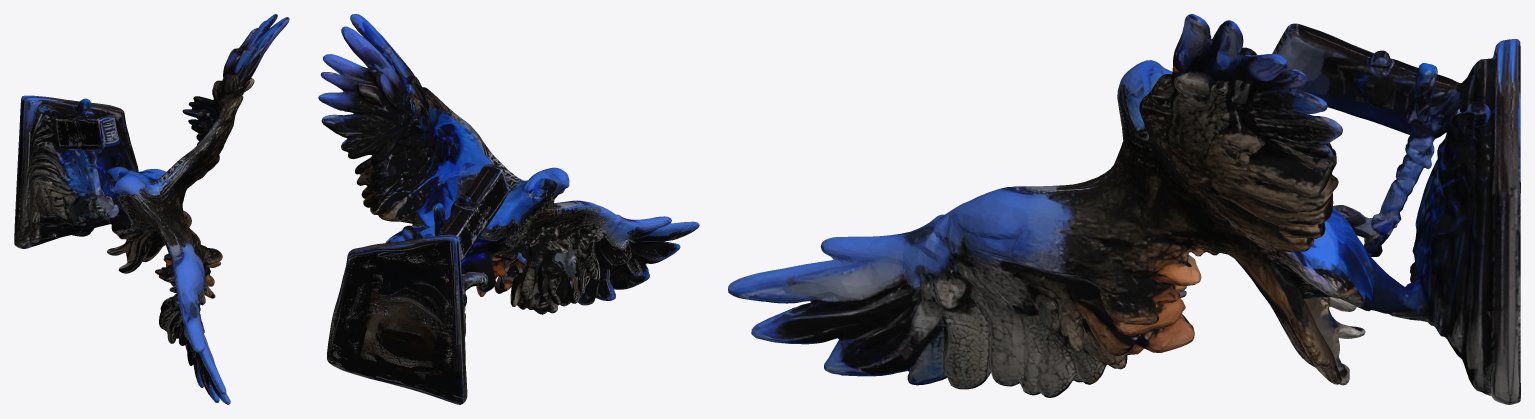
Rendered from charcoal-eagle.glb.
The picture shows the model from 3 angles, left to right: view 1: azimuth 30°, elevation 25°; view 2: azimuth 150°, elevation 25°; view 3: azimuth 270°, elevation 25°; orthographic projection. The views are drawn at different scales.
Visible parts, largest first — view 1: charcoal eagle_textured.obj; view 2: charcoal eagle_textured.obj; view 3: charcoal eagle_textured.obj.
Boxes of the visible parts, bbox=[...] form: charcoal eagle_textured.obj: bbox=[14, 14, 289, 404]; charcoal eagle_textured.obj: bbox=[318, 14, 699, 404]; charcoal eagle_textured.obj: bbox=[728, 14, 1520, 404].
Bounding box in the file's own units: 1.06 × 1.43 × 1.99.
Materials: 1 (1 with a texture image).
